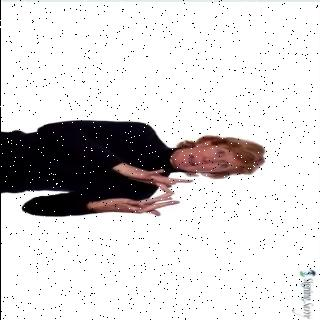Internet: (8, 120, 266, 218)
